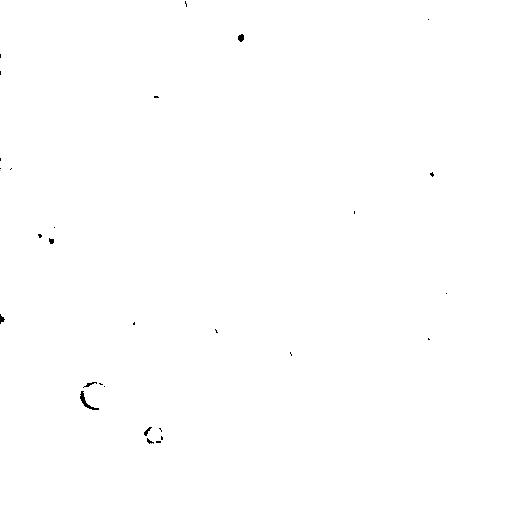micro-algae: (1, 0, 144, 107), (56, 451, 145, 511), (214, 409, 277, 473), (85, 228, 145, 290), (312, 475, 371, 511), (137, 434, 177, 473), (352, 255, 389, 293), (219, 18, 256, 53), (84, 0, 134, 25), (227, 66, 261, 99), (305, 52, 337, 83), (79, 379, 109, 410), (415, 0, 449, 27), (315, 192, 344, 222), (179, 381, 213, 406), (257, 232, 281, 267), (419, 159, 446, 188), (213, 243, 241, 270), (471, 282, 497, 311), (297, 459, 325, 483), (31, 209, 54, 238), (212, 307, 233, 337), (143, 423, 169, 445), (407, 261, 429, 287), (424, 317, 446, 343), (297, 377, 320, 401), (249, 276, 275, 297), (420, 95, 442, 119), (352, 199, 373, 224), (498, 426, 512, 463), (61, 71, 83, 94), (178, 31, 203, 51), (139, 304, 159, 329), (40, 230, 62, 252), (291, 181, 311, 205), (440, 287, 461, 307), (145, 495, 170, 511), (321, 363, 340, 383), (1, 303, 15, 327), (347, 437, 368, 453), (0, 153, 15, 175), (497, 293, 511, 316), (419, 349, 435, 369), (289, 339, 305, 359), (1, 49, 13, 74), (184, 0, 207, 11), (116, 475, 135, 488), (22, 188, 38, 202), (122, 309, 135, 325)
